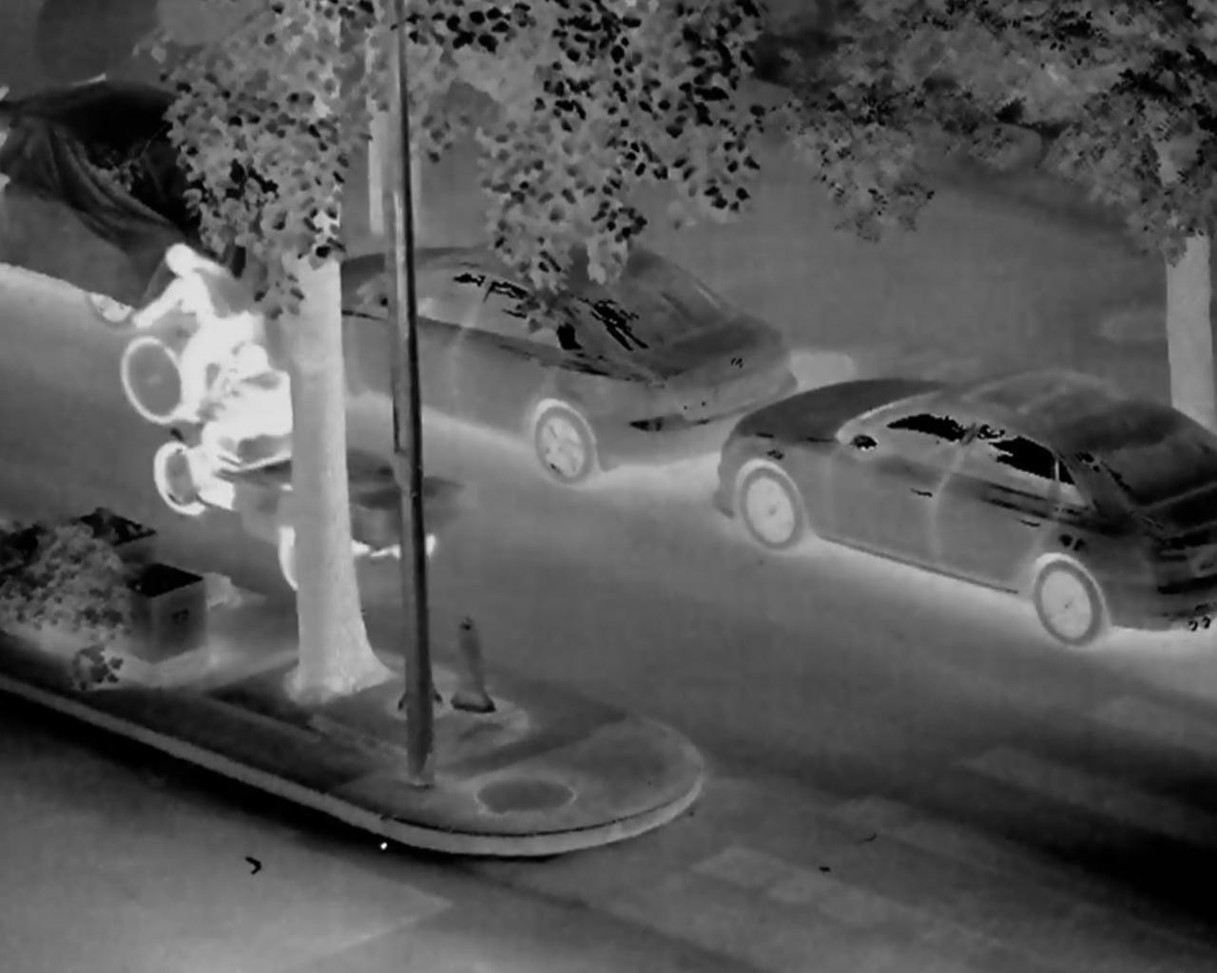person: (118, 229, 261, 467), (220, 350, 335, 566)
